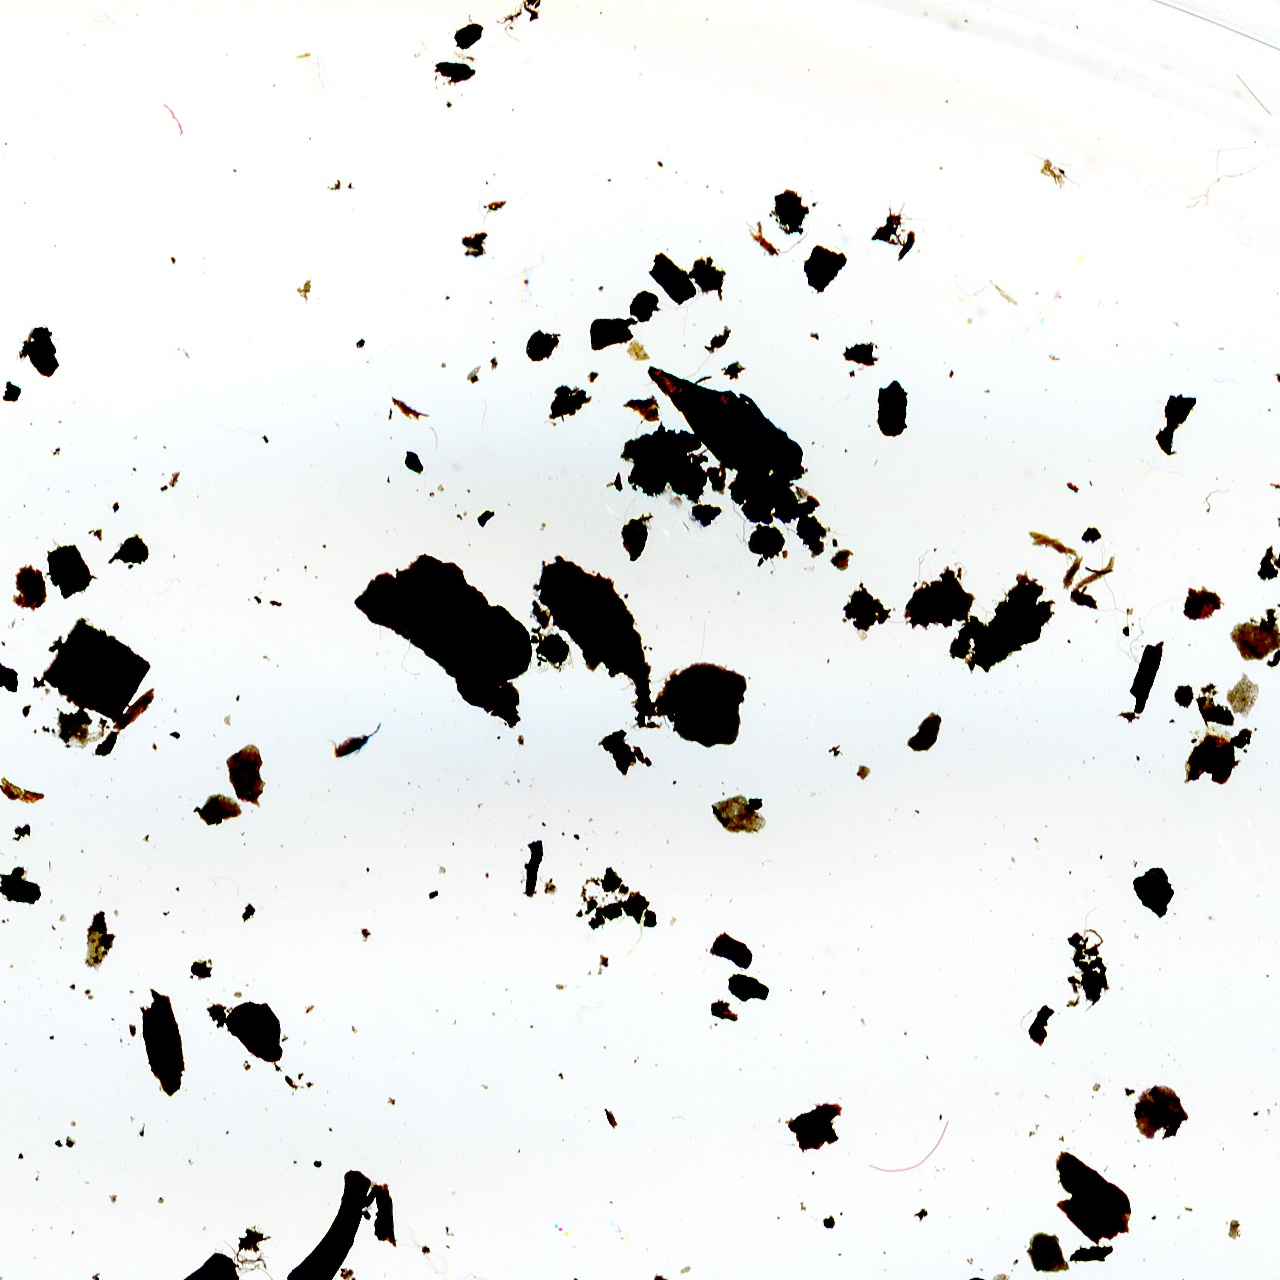arthropod: (326, 720, 383, 767)
